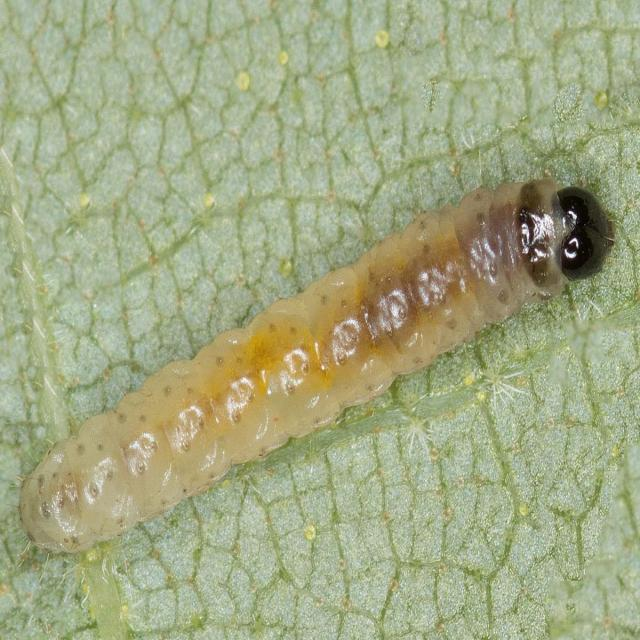cornborer-Larva-: (14, 165, 616, 579)
